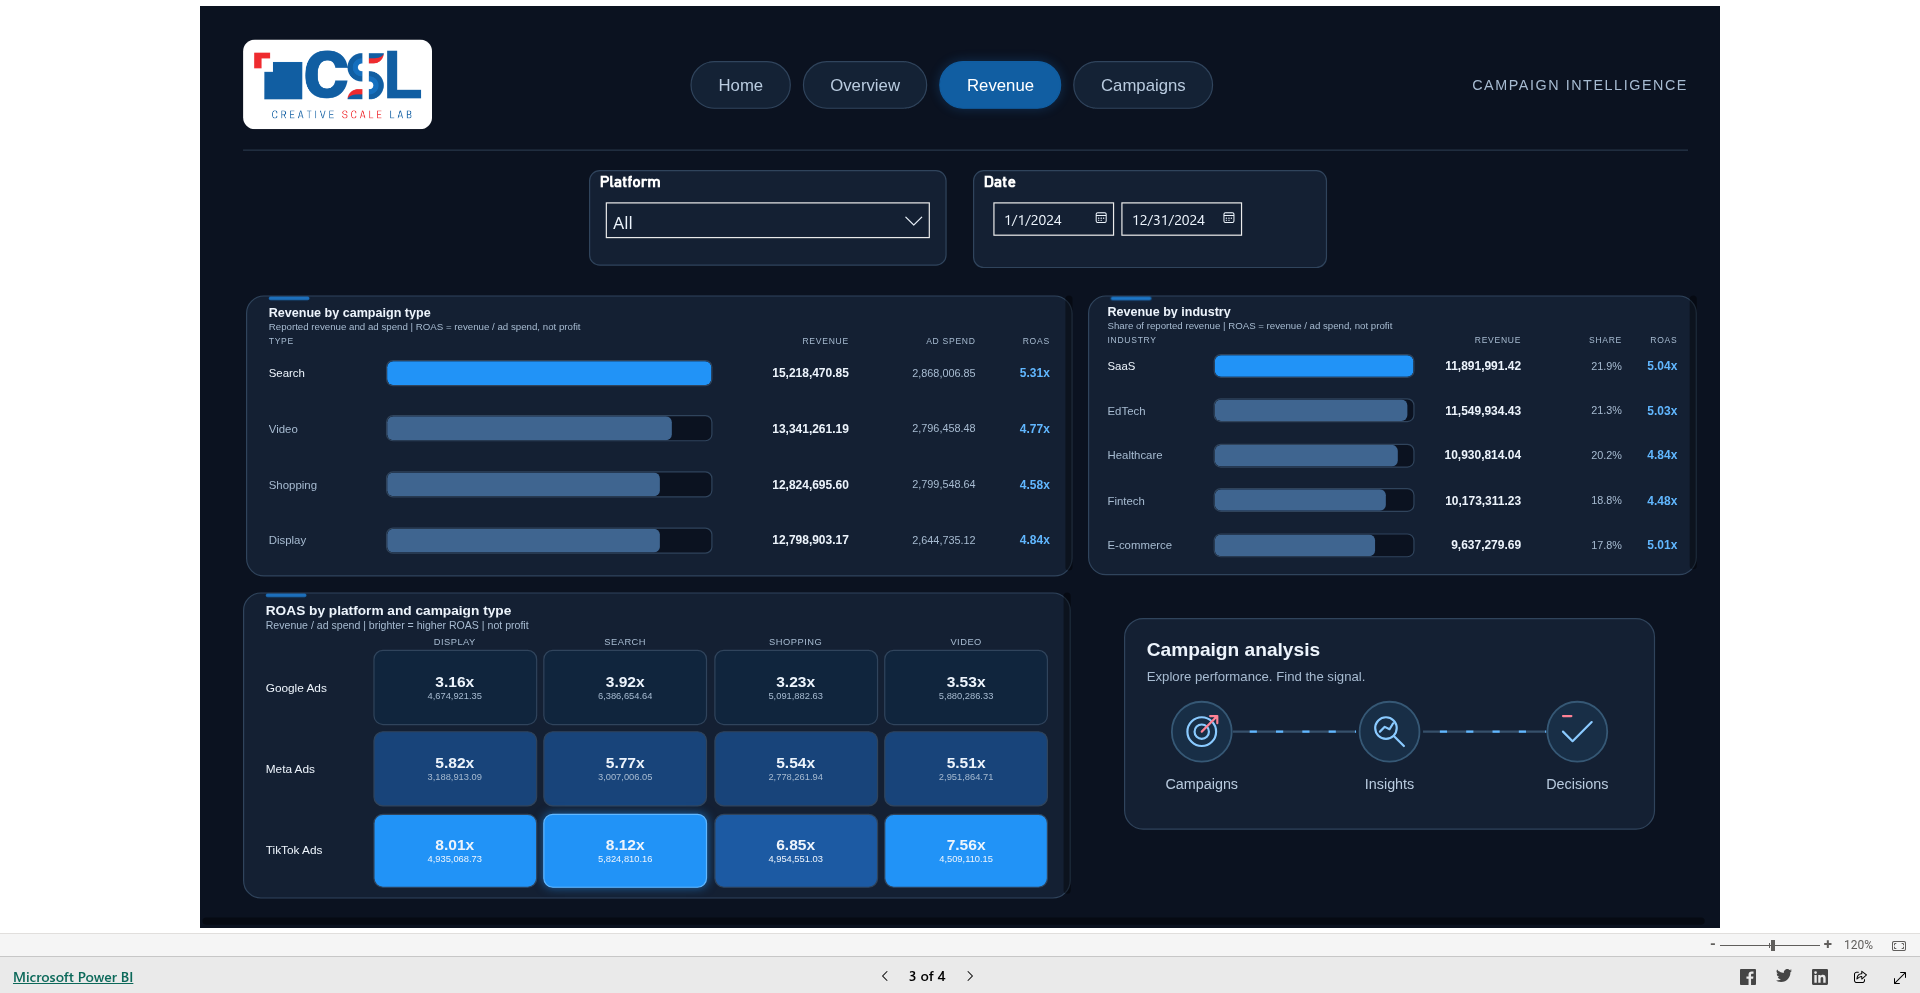

This screenshot's page, from the dashboard's own definition file:
{"tool":"powerbi","page":{"name":"Revenue","canvas":[1280,780],"ordinal":2},"visuals":[{"type":"htmlContent443BE3AD55E043BF878BED274D3A6855","fields":{"content":["html_code.CSL Header Revenue"]},"box":[0,0,1280,780],"z":0},{"type":"actionButton","box":[421.8,47.1,94.1,47.1],"z":1000},{"type":"actionButton","box":[515.7,47.9,95.8,47.9],"z":2000},{"type":"actionButton","box":[741.5,47.9,109.5,47.9],"z":3000},{"type":"htmlContent443BE3AD55E043BF878BED274D3A6855","fields":{"content":["_Measures.CSL Revenue by Campaign Type"]},"box":[38.8,240,702.7,248.7],"z":4000},{"type":"htmlContent443BE3AD55E043BF878BED274D3A6855","fields":{"content":["_Measures.CSL ROAS Platform Campaign Type"]},"box":[36.2,488,704.3,269.8],"z":5000},{"type":"htmlContent443BE3AD55E043BF878BED274D3A6855","fields":{"content":["_Measures.CSL Revenue by Industry"]},"box":[742.3,240,521.4,248],"z":6000},{"type":"slicer","title":"Platform","fields":{"Values":["CSL Platform.platform"]},"box":[330.2,142.2,298.9,79.5],"z":7000},{"type":"slicer","title":"Date","fields":{"Values":["Calendar.Date"]},"box":[650.8,142.2,296.5,82],"z":8000},{"type":"htmlContent443BE3AD55E043BF878BED274D3A6855","fields":{"content":["_Measures.CSL Campaign Analysis Accent"]},"box":[772.8,512,471.3,198.6],"z":9000}]}

Visuals, with their boxes on the page's 1280x780 design canvas (x1, y1, x2, y2). These are canvas units, not pixel positions in the 1920x993 screenshot, which may show the page scaled, cropped or inside an application window:
htmlContent443BE3AD55E043BF878BED274D3A6855 - html_code.CSL Header Revenue: Rect(0, 0, 1280, 780)
actionButton: Rect(422, 47, 516, 94)
actionButton: Rect(516, 48, 612, 96)
actionButton: Rect(742, 48, 851, 96)
htmlContent443BE3AD55E043BF878BED274D3A6855 - _Measures.CSL Revenue by Campaign Type: Rect(39, 240, 742, 489)
htmlContent443BE3AD55E043BF878BED274D3A6855 - _Measures.CSL ROAS Platform Campaign Type: Rect(36, 488, 740, 758)
htmlContent443BE3AD55E043BF878BED274D3A6855 - _Measures.CSL Revenue by Industry: Rect(742, 240, 1264, 488)
"Platform" slicer: Rect(330, 142, 629, 222)
"Date" slicer: Rect(651, 142, 947, 224)
htmlContent443BE3AD55E043BF878BED274D3A6855 - _Measures.CSL Campaign Analysis Accent: Rect(773, 512, 1244, 711)
